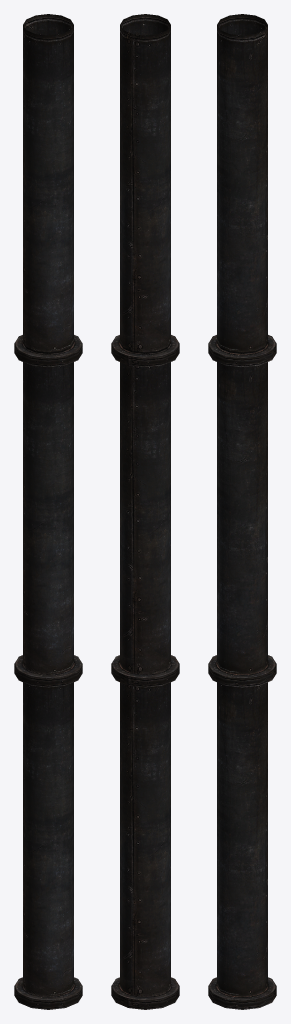
Rendered from tesla_props_pipes_01_xl.dae.
3 views of the same model, side by side, from view 1: azimuth 90°, elevation 25°; view 2: azimuth 150°, elevation 25°; view 3: azimuth 270°, elevation 25° (orthographic).
Parts seen in each view (by area): view 1: polySurface1; view 2: polySurface1; view 3: polySurface1.
Part boxes in pixels (x1,y1,x2,y2): polySurface1: (14,14,82,1009); polySurface1: (111,14,179,1009); polySurface1: (208,14,276,1009).
Bounding box in the file's own units: 1344 × 21001 × 1344.
